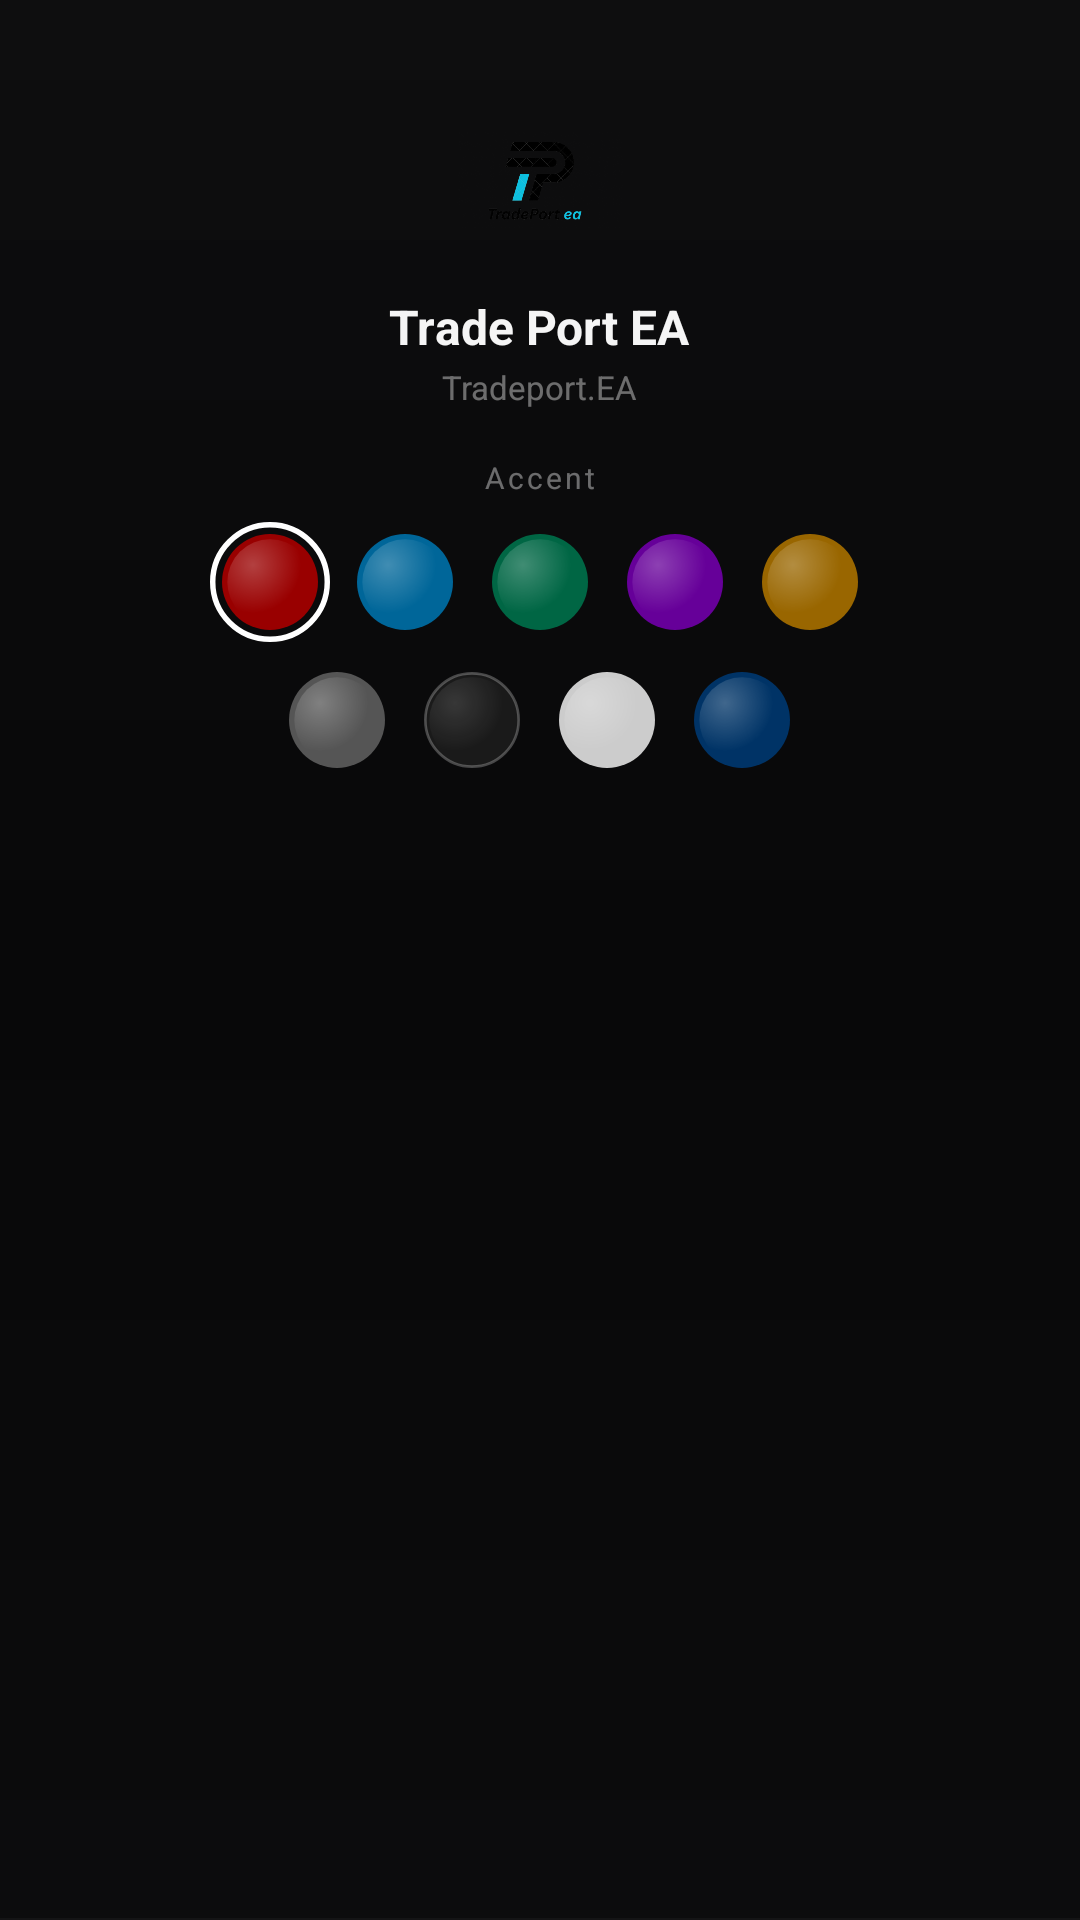

Where to tap for icons on this 1080px×1920px app screen, as (x=x, y=y):
theme swatch amber: (x=810, y=582)
theme swatch emerald: (x=540, y=582)
theme swatch ocean: (x=405, y=582)
theme swatch violet: (x=675, y=582)
